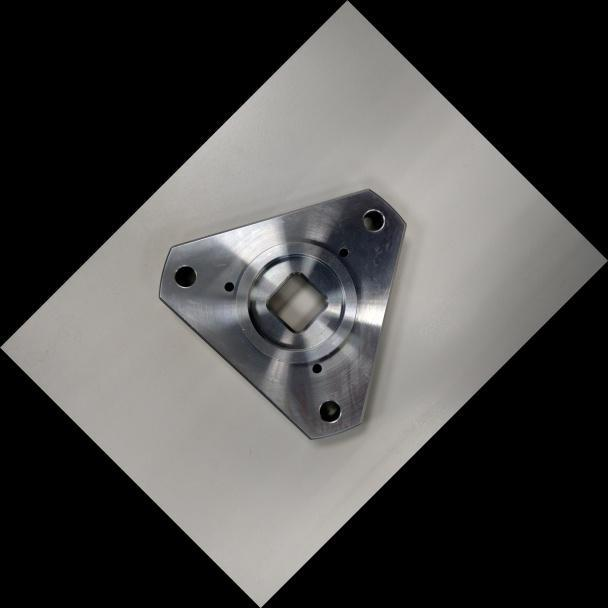hole: (353, 202, 392, 241), (165, 257, 204, 295), (310, 392, 348, 430), (305, 356, 328, 379), (218, 276, 238, 296), (333, 242, 353, 262)
